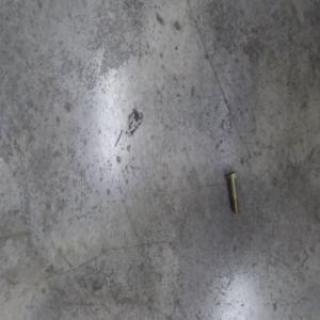Bolttrack_idkeyframe: (222, 168, 236, 212)
